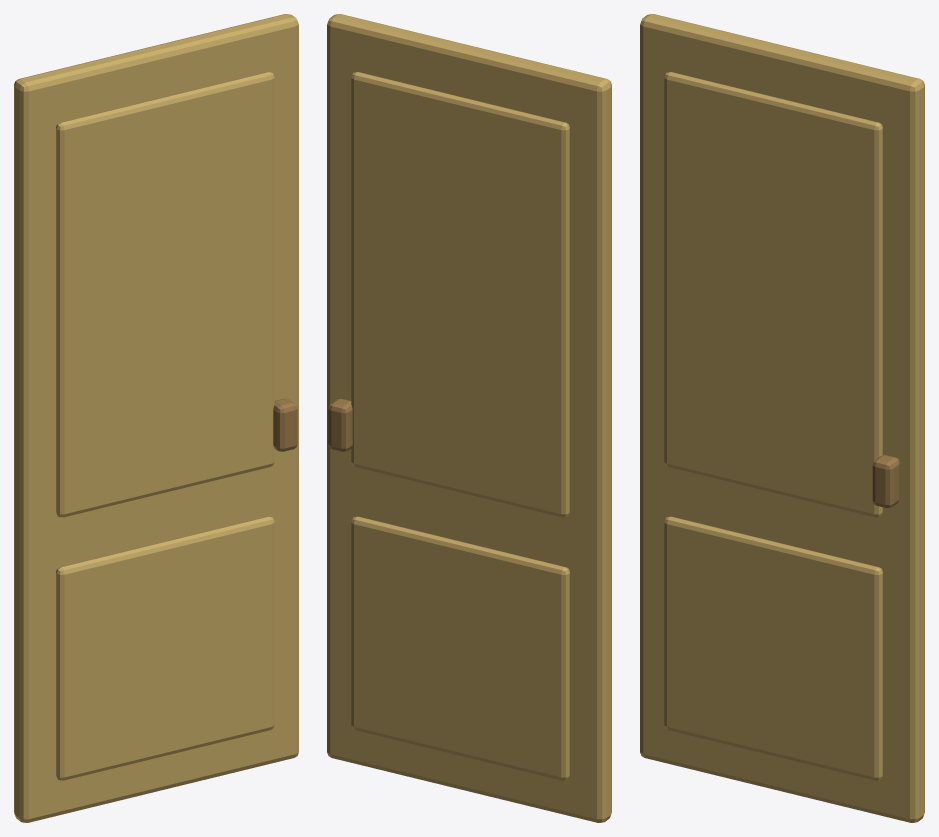
Rendered from SM_Kit_Door_Panel.glb.
The picture shows the model from 3 angles, left to right: view 1: azimuth 30°, elevation 25°; view 2: azimuth 150°, elevation 25°; view 3: azimuth 330°, elevation 25°; orthographic projection.
Visible parts, largest first — view 1: SM_Kit_Door_Panel; view 2: SM_Kit_Door_Panel; view 3: SM_Kit_Door_Panel.
Boxes of the visible parts, bbox=[...] form: SM_Kit_Door_Panel: bbox=[14, 14, 298, 822]; SM_Kit_Door_Panel: bbox=[327, 14, 611, 822]; SM_Kit_Door_Panel: bbox=[640, 14, 924, 822].
Bounding box in the file's own units: 0.82 × 2.08 × 0.18.
